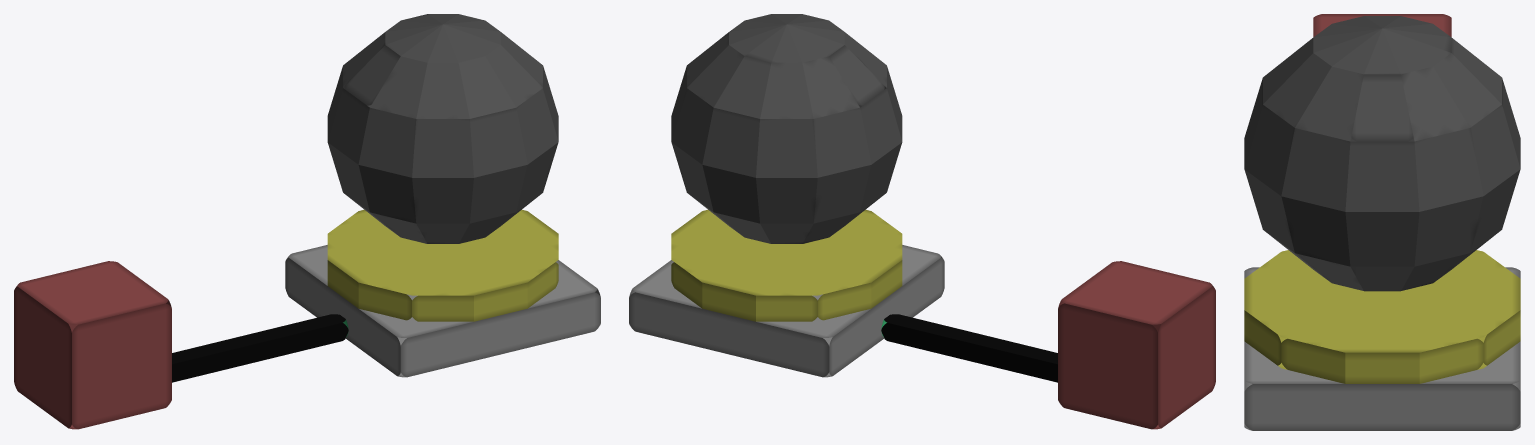
File: teleporter_inactive.obj
3 renders of one model, left to right at view 1: azimuth 30°, elevation 25°; view 2: azimuth 150°, elevation 25°; view 3: azimuth 270°, elevation 25°, orthographic. The views are drawn at different scales.
Visible parts, largest first — view 1: mesh, sphere, cylinder; view 2: mesh, sphere, cylinder; view 3: sphere, cylinder, mesh.
Part boxes in pixels (x1,y1,x2,y2): mesh: (14,245,600,429); sphere: (327,14,558,243); cylinder: (327,209,558,321); mesh: (629,245,1215,429); sphere: (671,14,902,243); cylinder: (671,209,902,321); sphere: (1244,16,1520,291); cylinder: (1244,250,1520,383); mesh: (1244,14,1520,430).
Size of the model in its own units: 2.5 by 1.38 by 1.
1 material, 1 textured.
